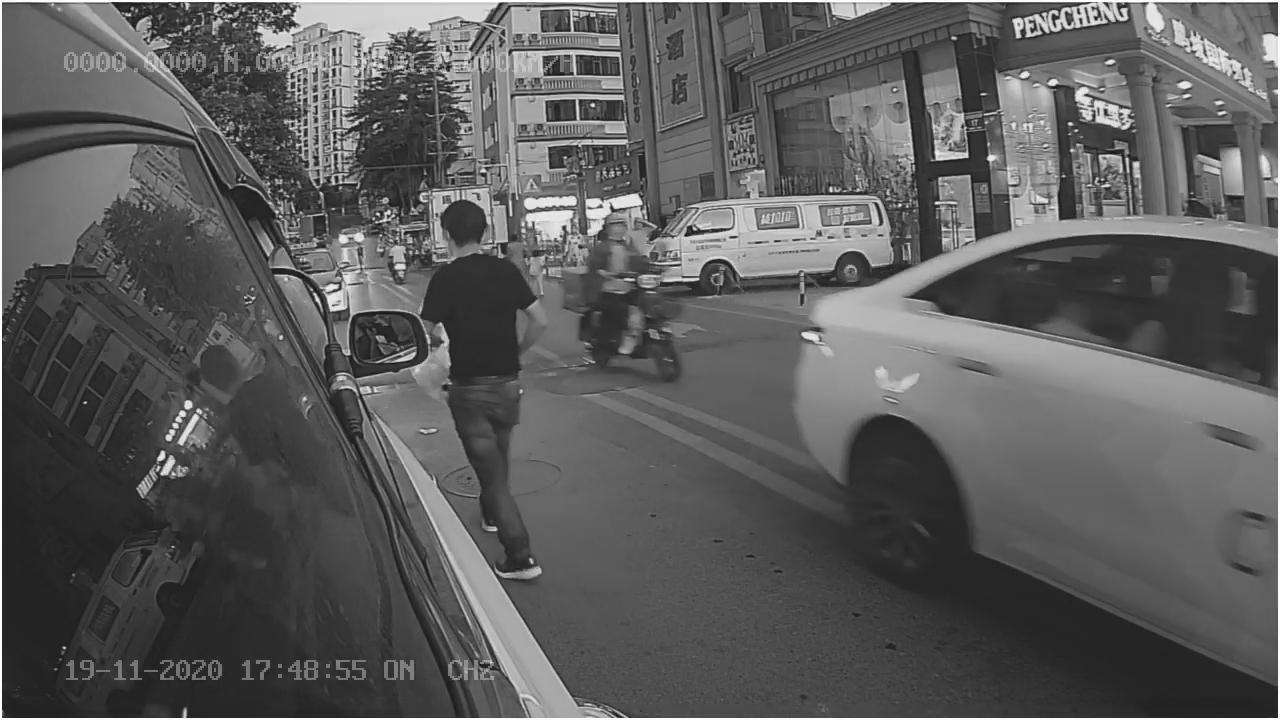person: (420, 208, 557, 472)
